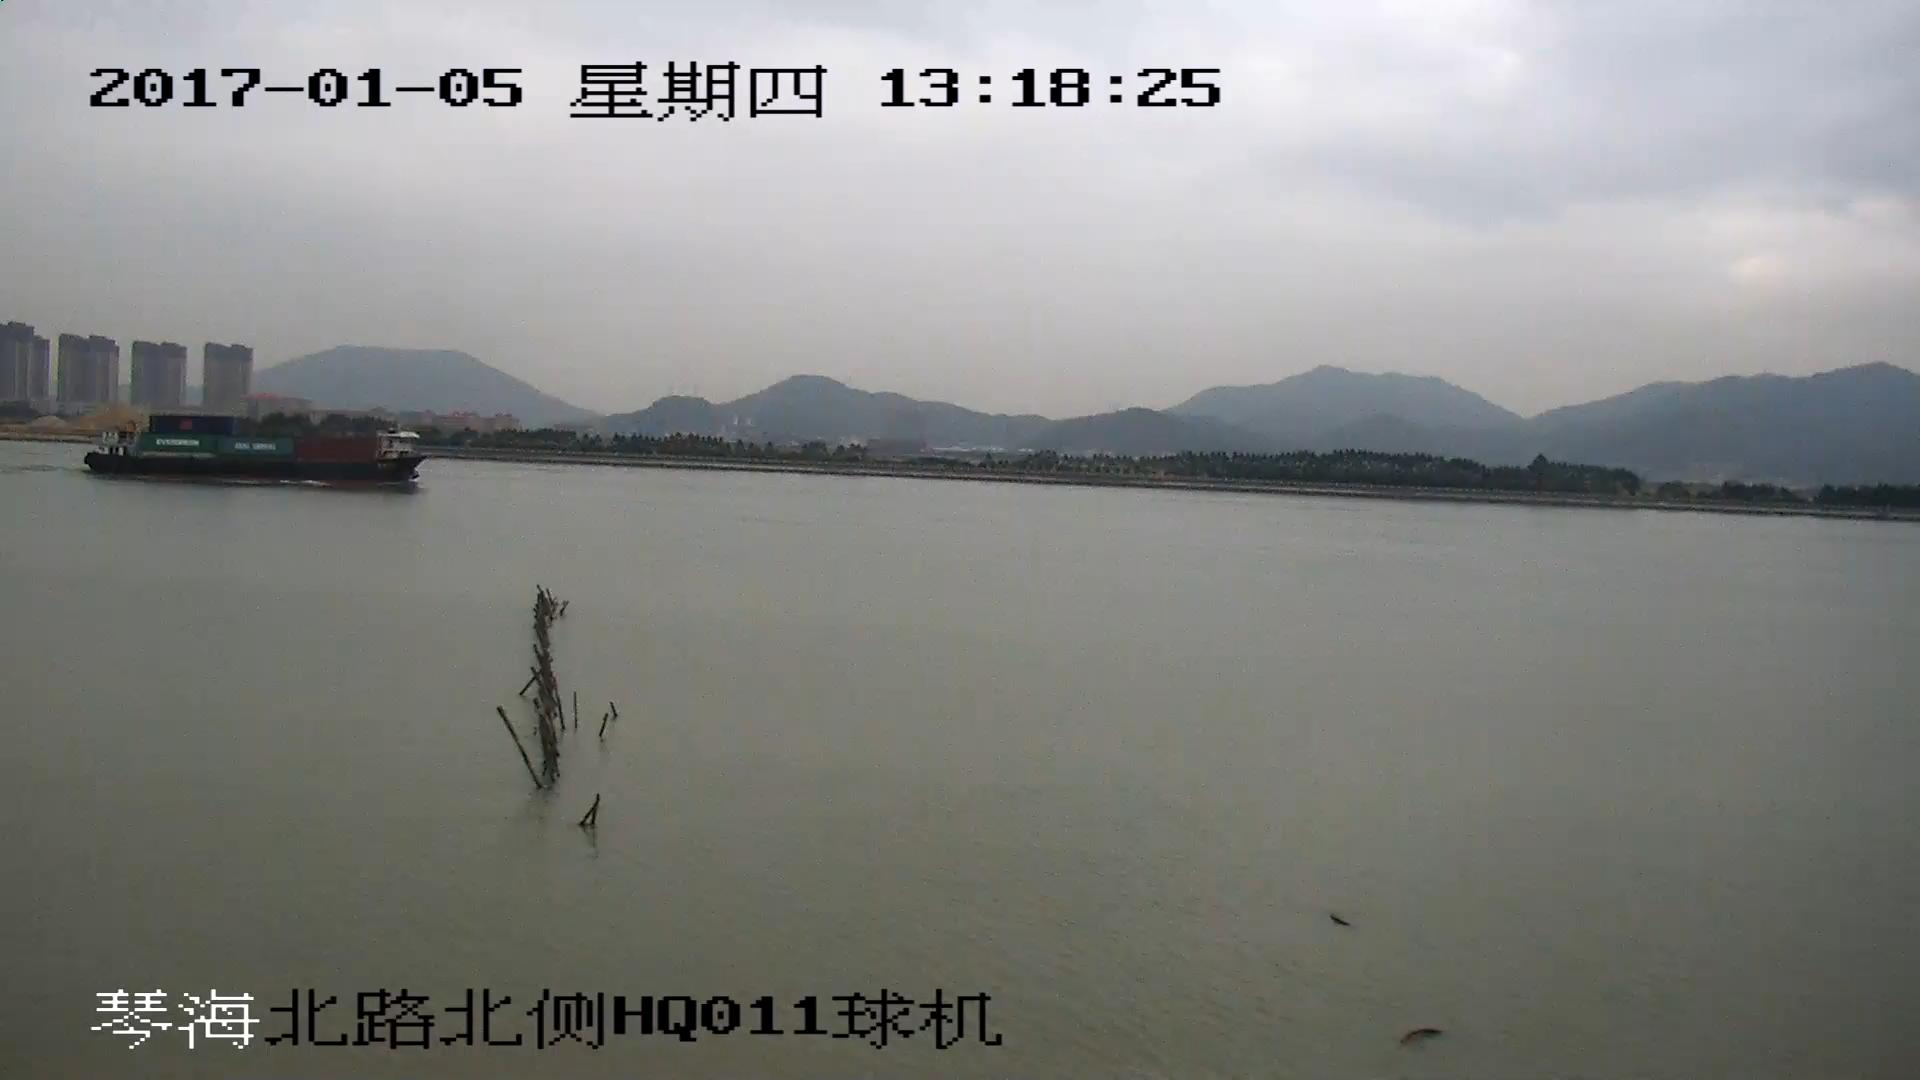container ship: (83, 411, 425, 487)
